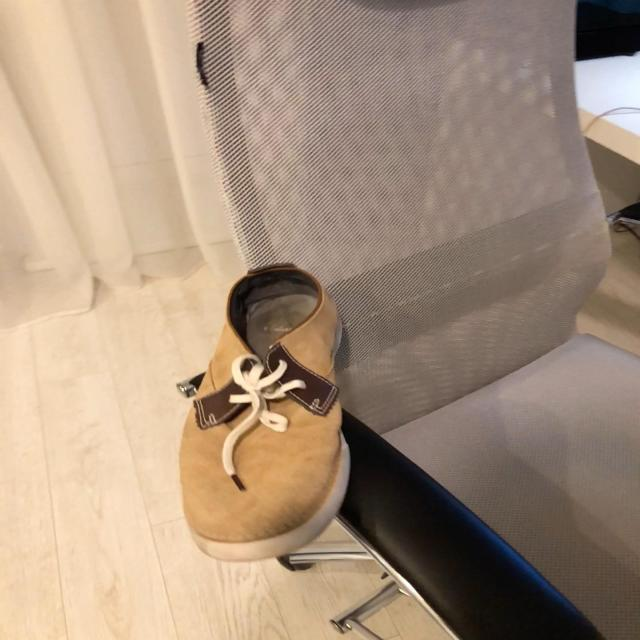shoe: (177, 264, 352, 566)
